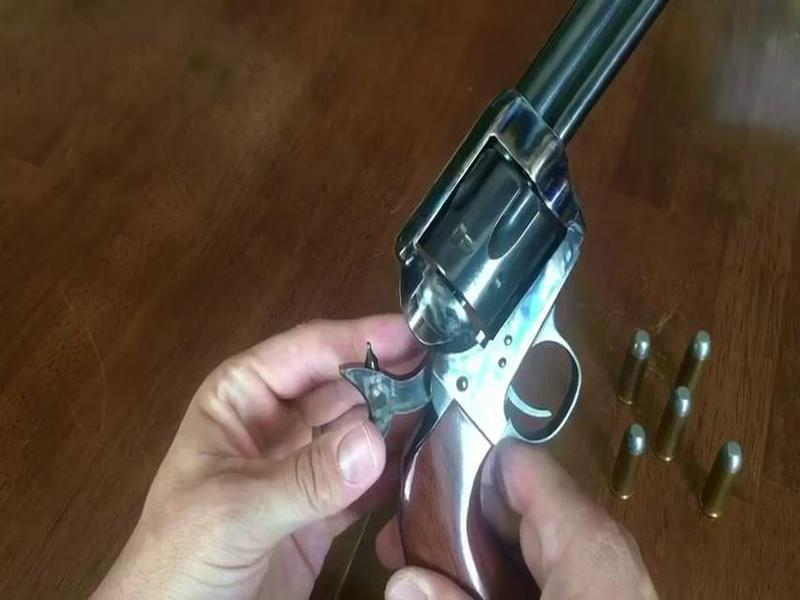Revolver: (386, 16, 688, 600)
